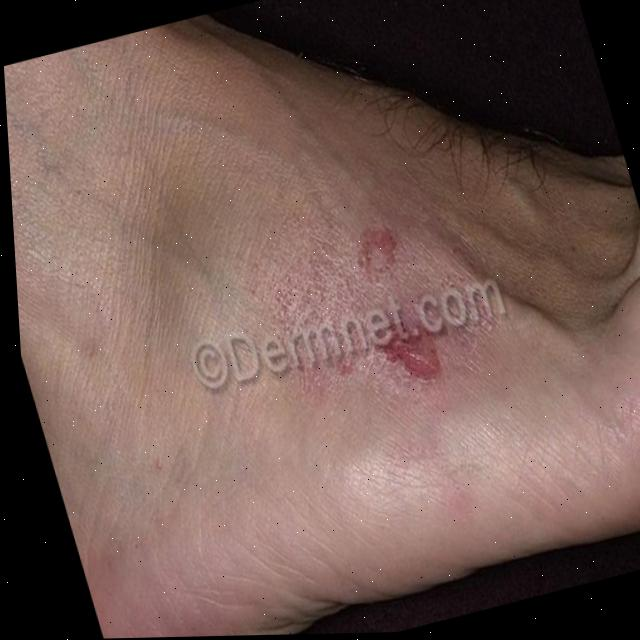Eczema: (364, 312, 448, 391), (354, 224, 424, 290)
